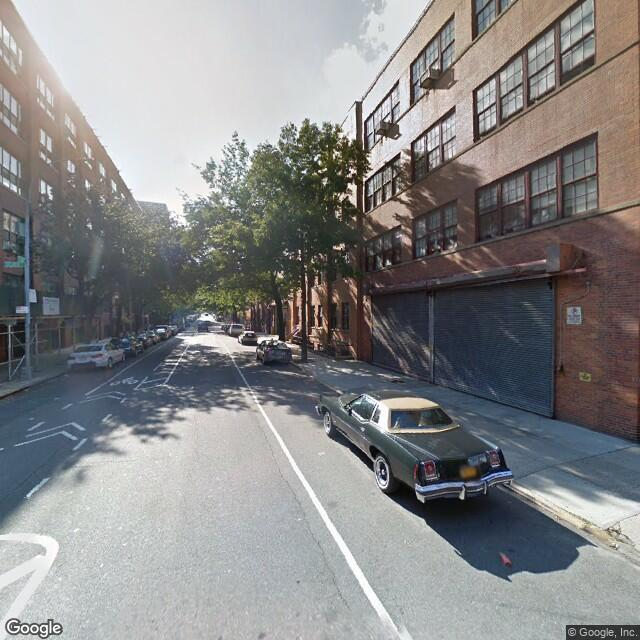litter: (497, 552, 515, 572)
